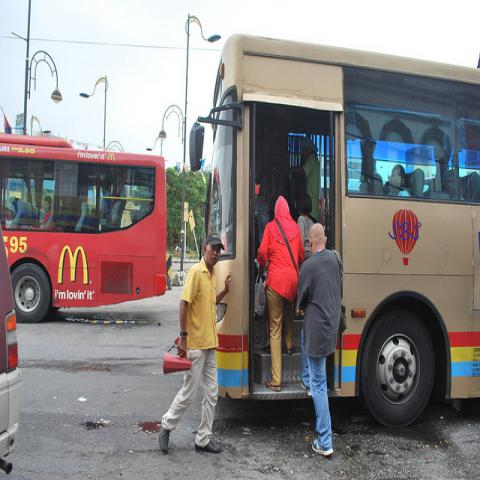bus: (188, 30, 479, 434), (0, 132, 167, 324)
car: (1, 226, 21, 478)
